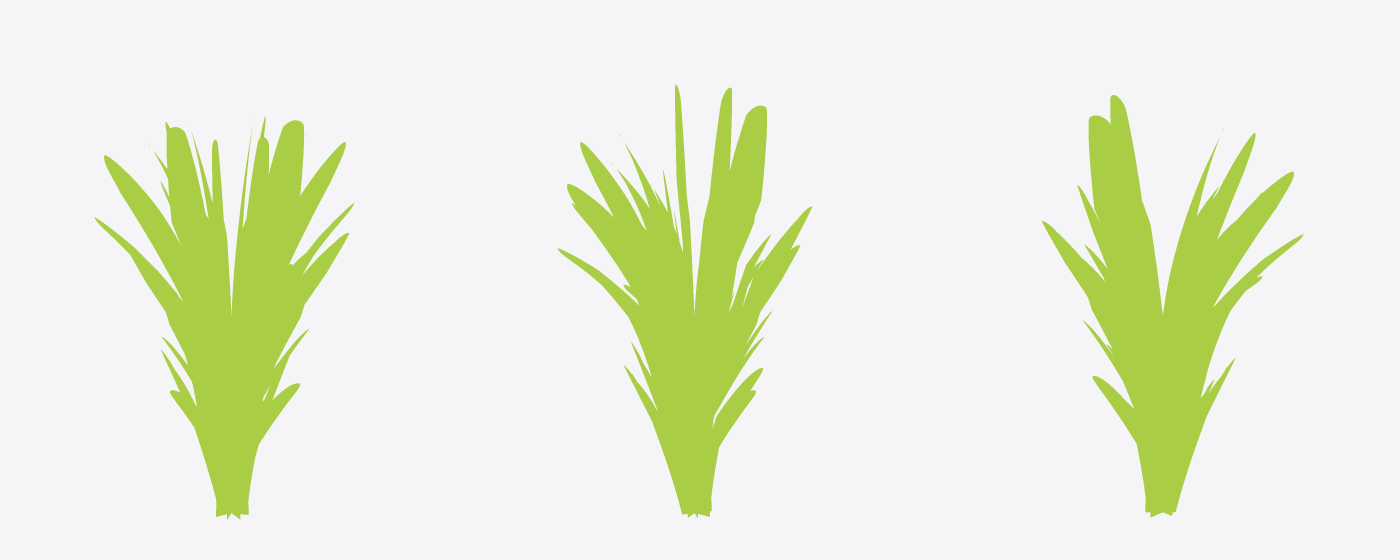
The model's file is HERBE 1.FBX.
3 renders of one model, left to right at view 1: azimuth 30°, elevation 25°; view 2: azimuth 150°, elevation 25°; view 3: azimuth 270°, elevation 25°, orthographic.
Visible parts, largest first — view 1: Plane005; view 2: Plane005; view 3: Plane005.
Boxes of the visible parts, box(x1,y1,x2,y2) form: Plane005: box(94, 116, 353, 519); Plane005: box(557, 85, 812, 517); Plane005: box(1041, 95, 1303, 517).
Size of the model in its own units: 204 by 236 by 204.
Materials: 1 (1 with a texture image).
